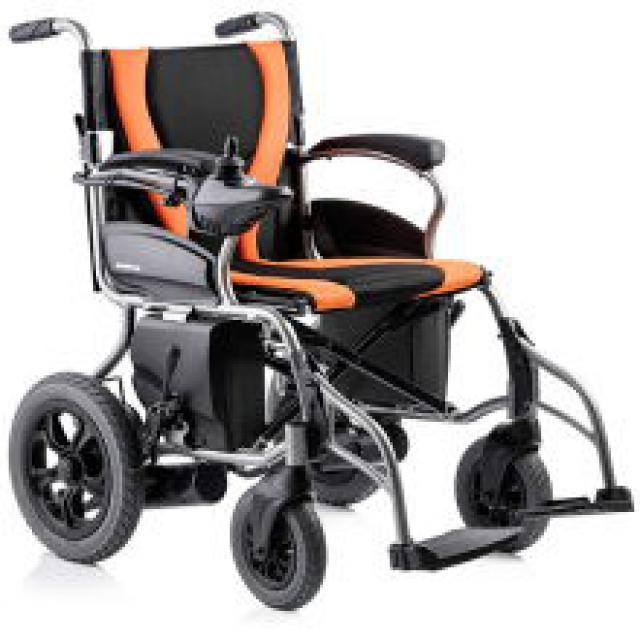wheelchair: (5, 3, 638, 611)
